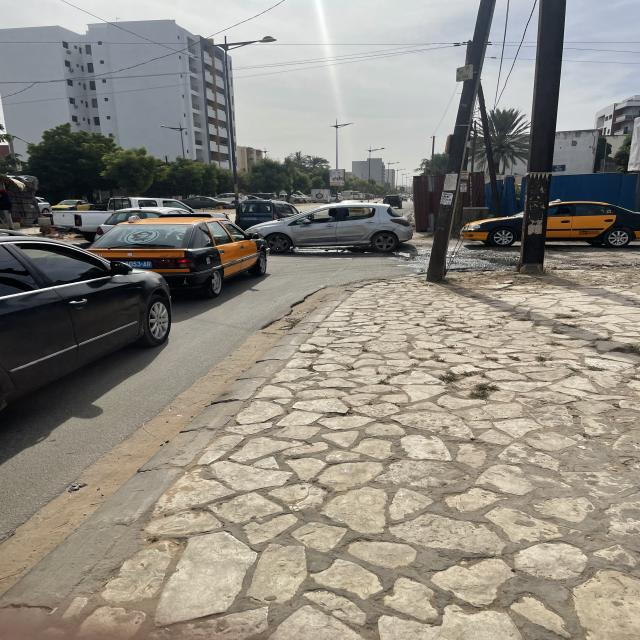particulier: (1, 230, 171, 414), (244, 201, 417, 254), (53, 197, 235, 232), (234, 199, 302, 234), (185, 197, 235, 214), (386, 193, 404, 210)
taxi: (76, 214, 270, 300), (457, 201, 640, 250), (54, 199, 94, 214)
